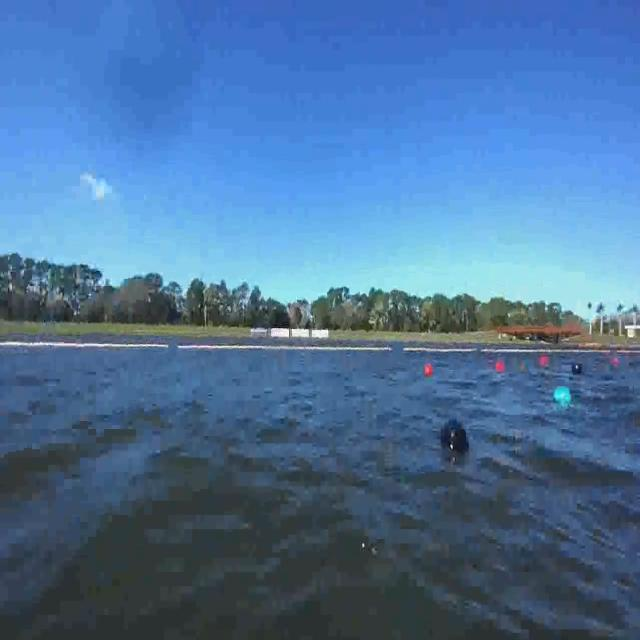black-buoy: (441, 420, 468, 455), (571, 361, 582, 374)
green-buoy: (553, 385, 571, 403)
red-buoy: (424, 362, 434, 377), (495, 361, 505, 372), (539, 354, 548, 366)
